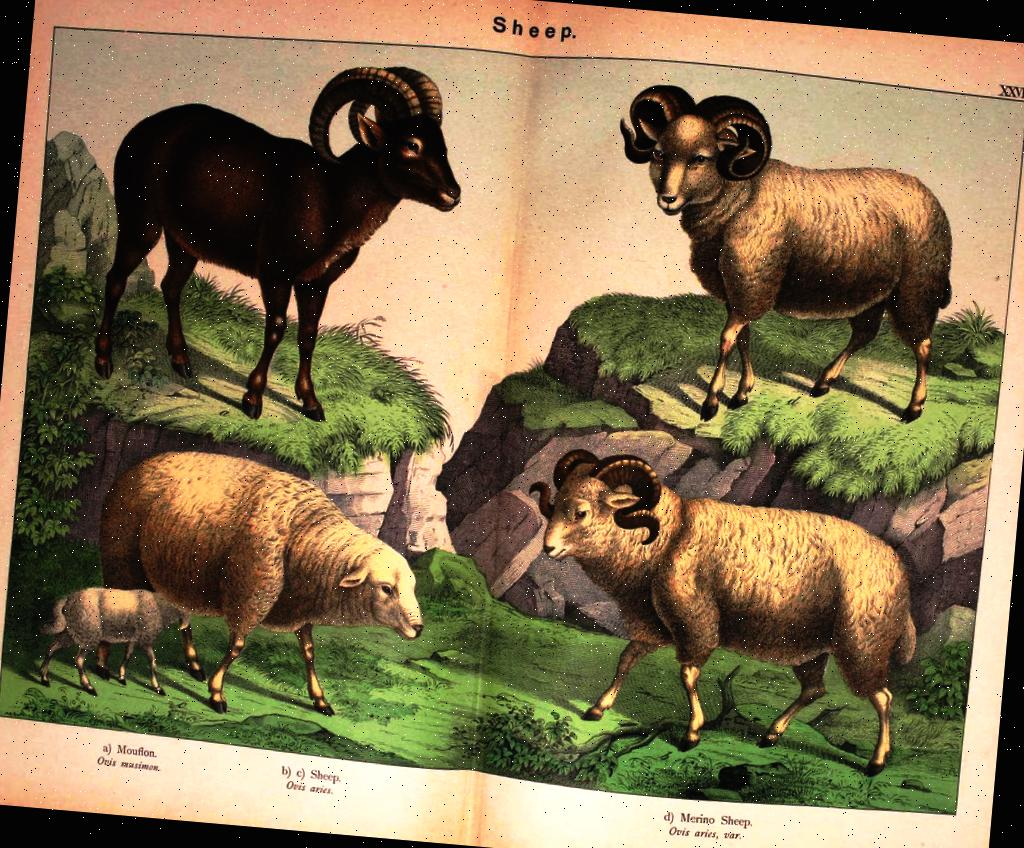Sheep: (85, 32, 479, 426), (497, 436, 936, 784), (586, 74, 976, 438), (90, 440, 450, 726), (24, 574, 191, 702)
